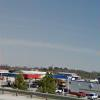Boat: (1, 68, 24, 88)
